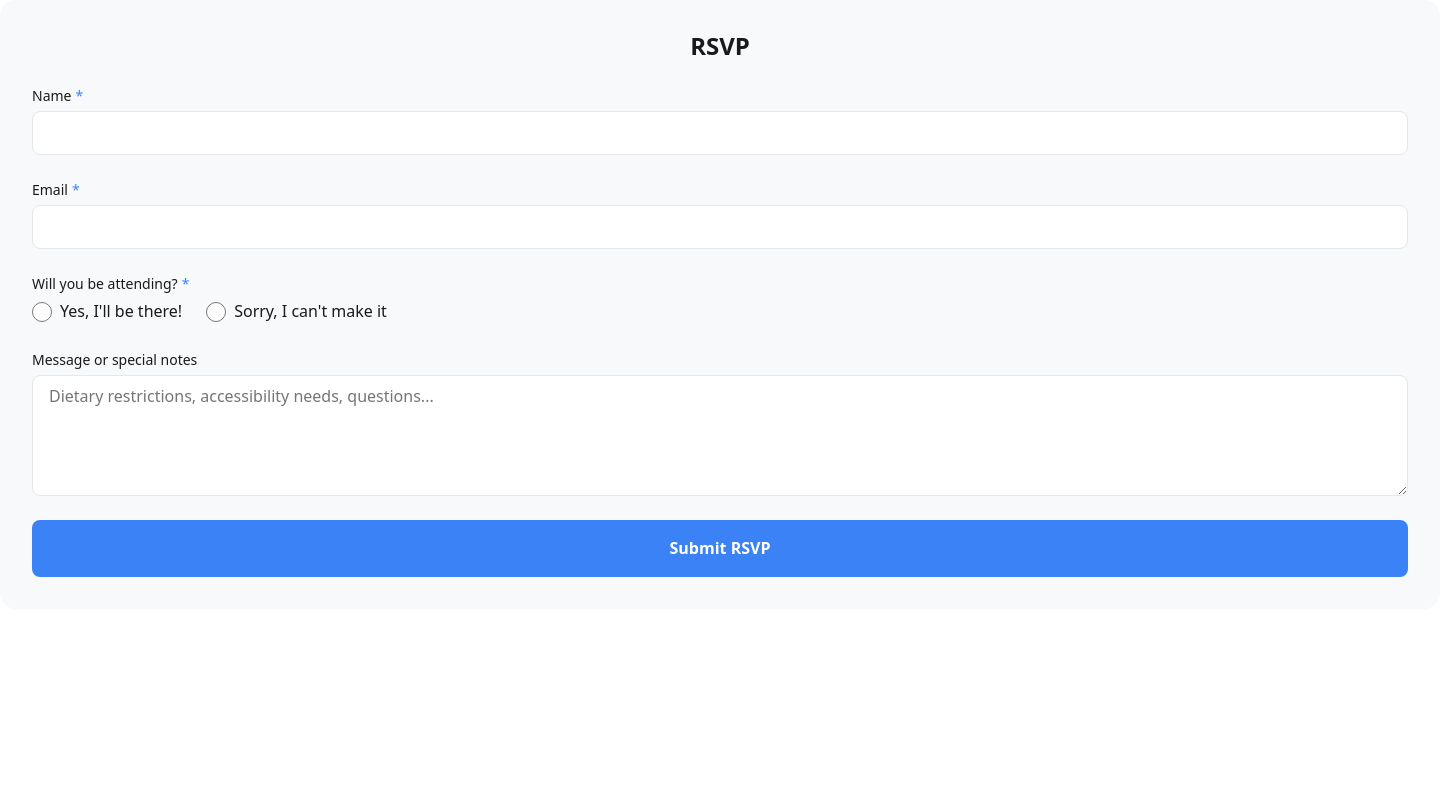
Test: RSVPForm › shows validation errors for empty required fields
Click the button "Submit RSVP".
click(720, 548)  # box 32,520 -> 1408,577
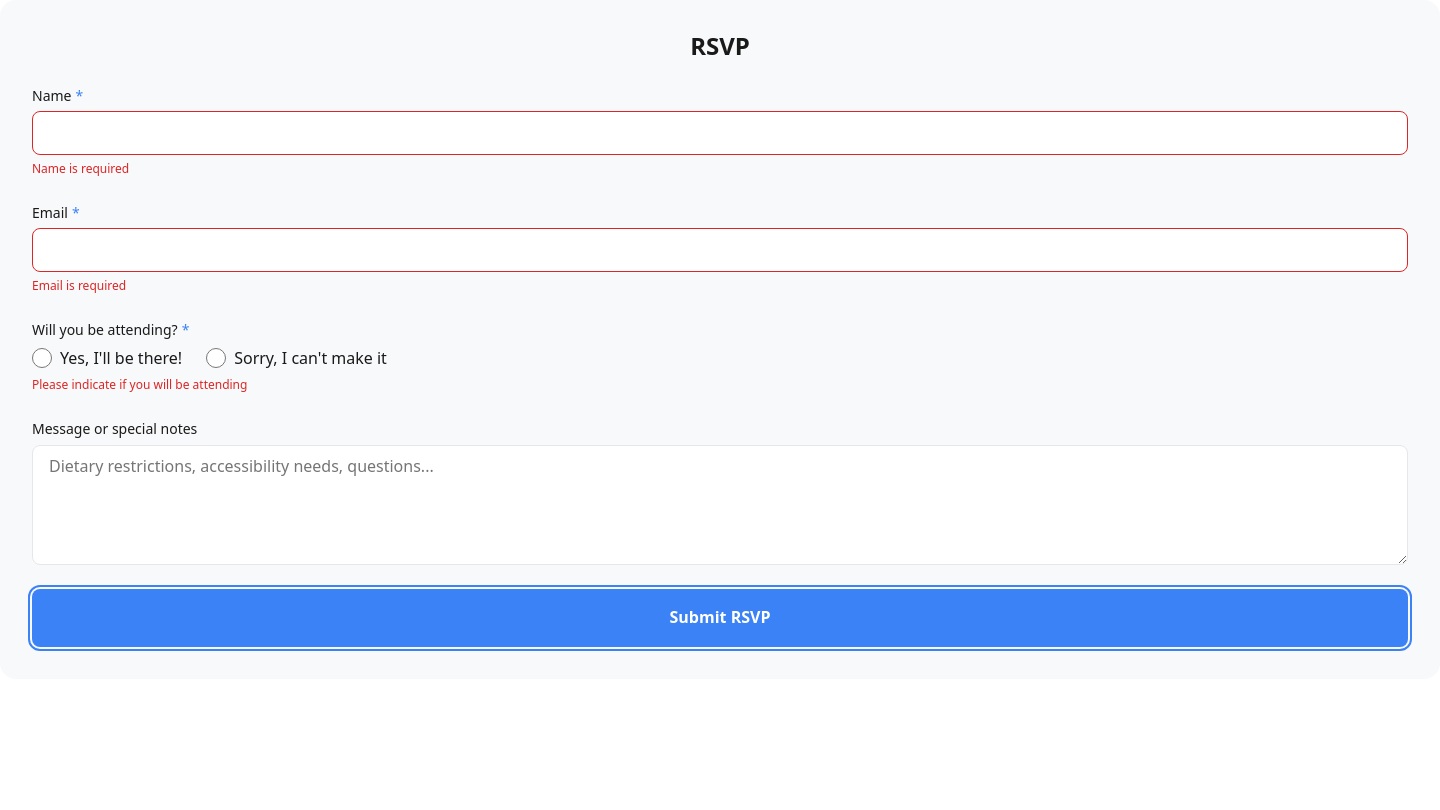
Check: the text "Name is required" is shown, box 32,160 -> 129,177
Check: the text "Email is required" is shown, box 32,277 -> 126,294
Check: the text "Please indicate if you will be attending" is shown, box 32,376 -> 247,393
